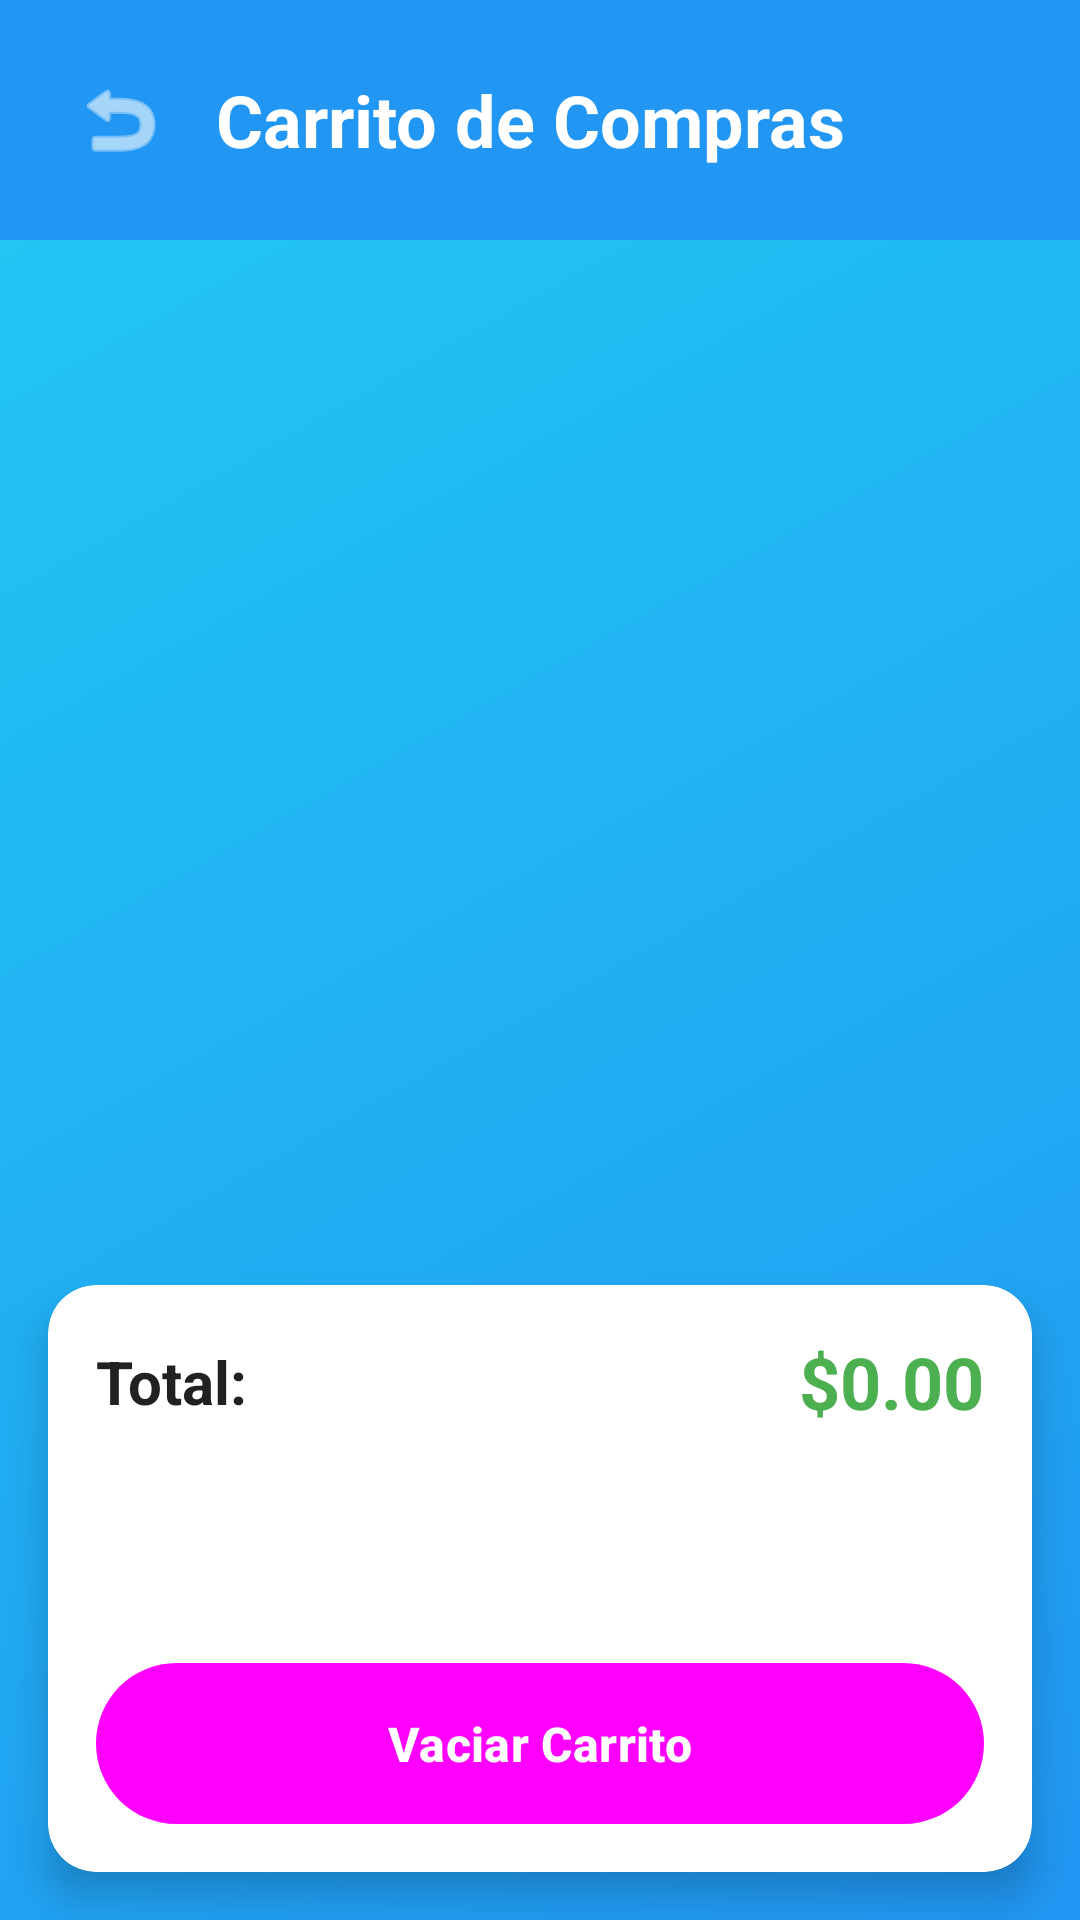

Point at icon controls on the screen. Image size 1080*1920, points as (x=x, y=y).
Volver: (x=121, y=120)
